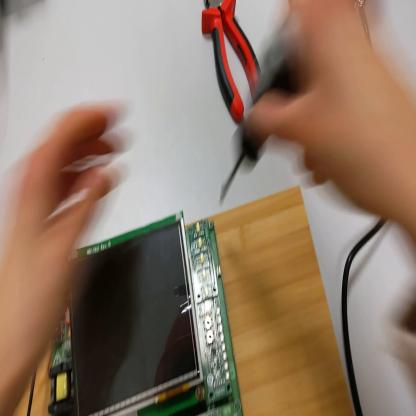hand: (2, 105, 129, 414), (240, 2, 405, 208)
low voltage board: (47, 215, 242, 416)
pliers: (202, 1, 263, 122)
screwdriver-: (215, 40, 299, 222)
working area: (1, 181, 353, 416)
